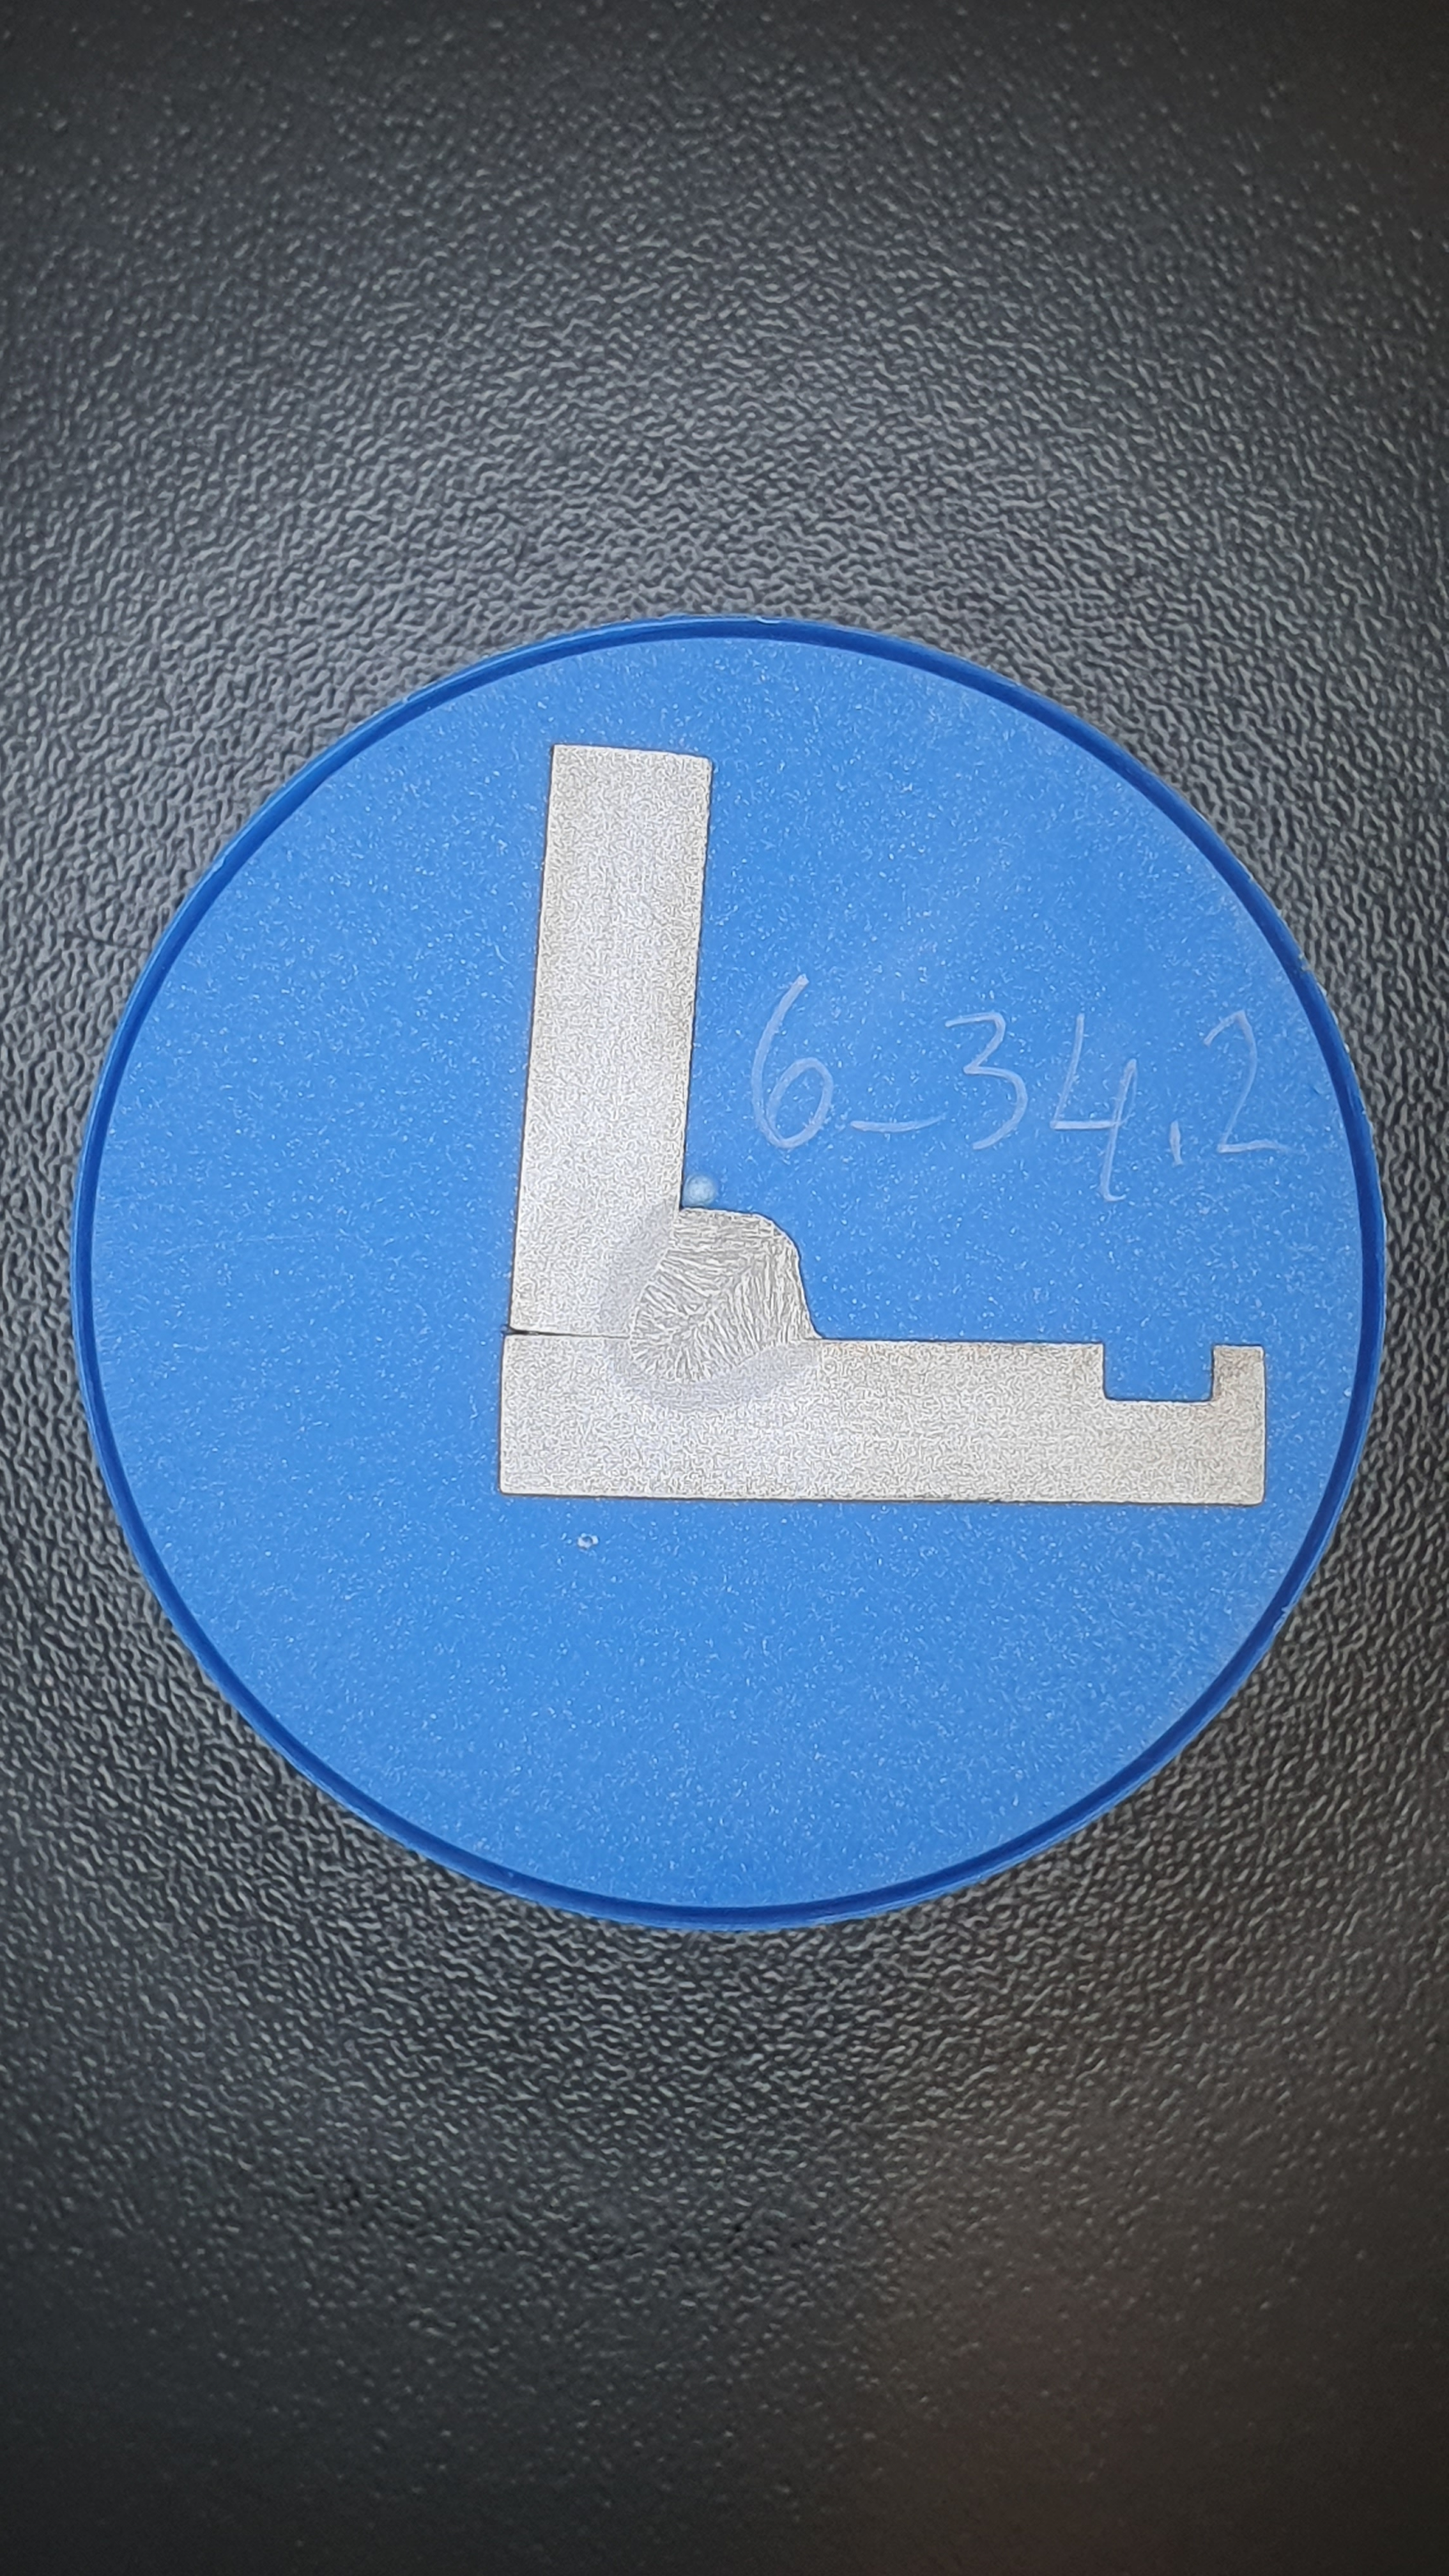Fusion: (627, 1207, 820, 1384)
Hintergrund: (88, 637, 1363, 1906)
Metall: (498, 744, 1266, 1506)
Nebenbereich: (597, 1193, 824, 1414)
